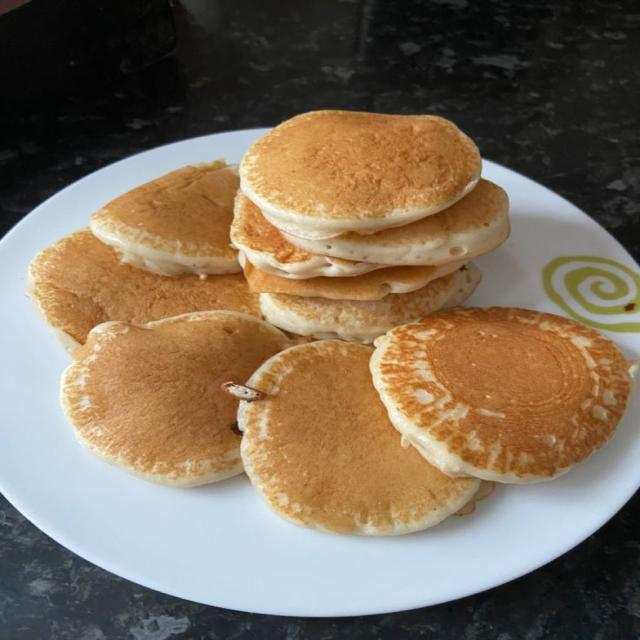pancake: (239, 340, 479, 535), (371, 308, 629, 482), (61, 312, 290, 487), (240, 111, 480, 238), (27, 230, 260, 351), (285, 180, 509, 264), (260, 263, 480, 343), (90, 161, 240, 275), (231, 192, 383, 279), (243, 260, 465, 300)
